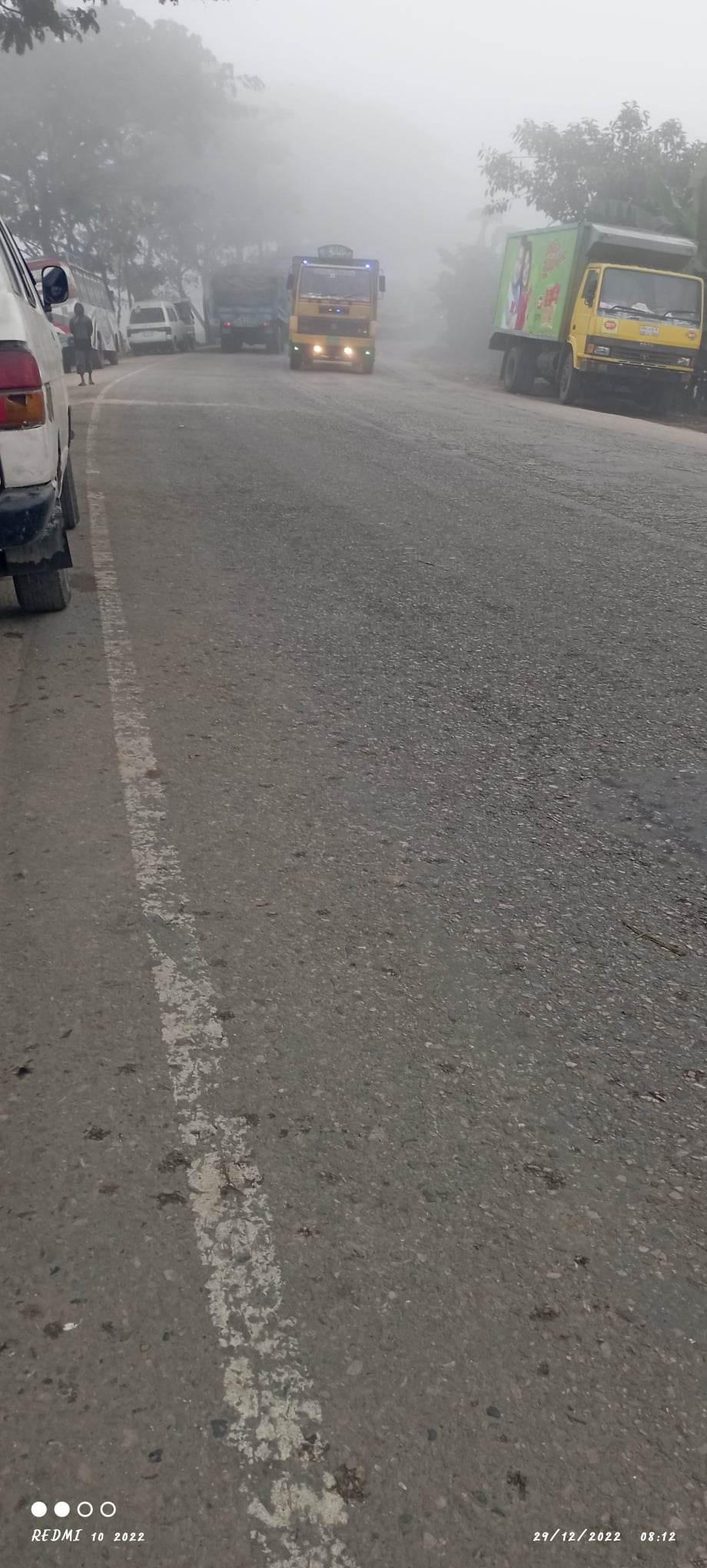Car: (119, 284, 199, 360)
Truck: (486, 204, 707, 406), (273, 236, 412, 387), (199, 252, 304, 362)
